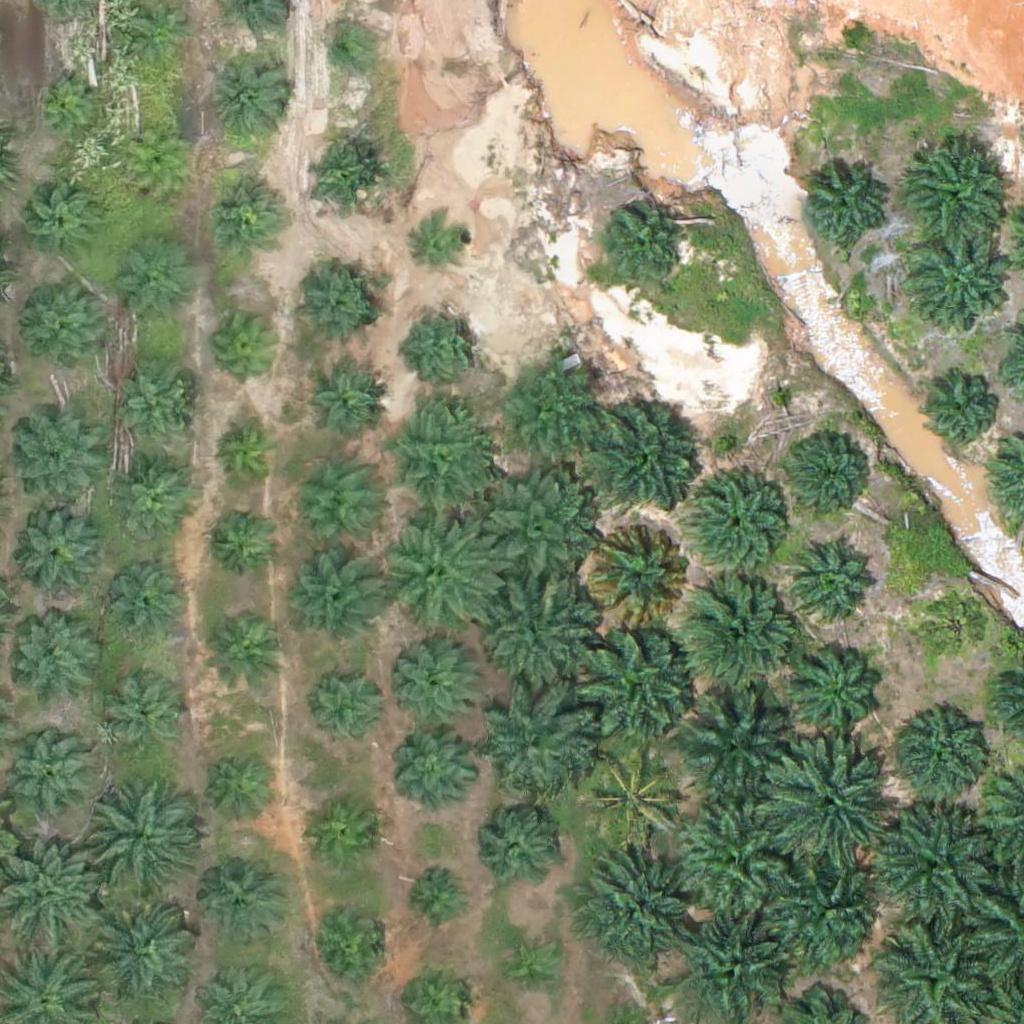Kelapa_Sawit: (377, 505, 502, 631), (81, 778, 206, 904), (580, 390, 705, 516), (574, 624, 699, 750), (477, 571, 602, 697), (474, 677, 599, 803), (676, 566, 801, 692), (672, 797, 797, 923), (579, 844, 704, 970), (760, 740, 885, 866), (769, 859, 894, 985), (865, 804, 990, 930), (469, 470, 594, 595), (675, 682, 800, 807), (575, 738, 688, 852), (582, 519, 695, 632), (494, 353, 606, 467), (683, 469, 795, 583), (384, 405, 496, 518), (391, 630, 491, 731), (909, 232, 1009, 333), (905, 139, 1005, 240), (784, 634, 884, 735), (887, 709, 987, 810), (86, 901, 186, 1001), (283, 461, 383, 561), (297, 266, 385, 354), (389, 724, 477, 812), (109, 459, 197, 547), (106, 676, 194, 764), (15, 416, 103, 504), (12, 505, 100, 593), (9, 733, 97, 821), (800, 164, 888, 252), (21, 285, 108, 374), (301, 363, 388, 451), (599, 205, 686, 293), (918, 364, 1005, 452), (292, 551, 379, 639), (108, 367, 195, 455), (100, 561, 187, 649), (6, 616, 93, 704), (195, 856, 282, 944), (469, 804, 556, 892), (792, 534, 879, 622), (787, 429, 874, 517), (305, 141, 380, 217), (208, 616, 283, 692), (203, 505, 278, 581), (209, 417, 284, 493), (407, 304, 482, 380), (308, 908, 383, 984), (214, 57, 289, 133), (918, 587, 993, 663), (22, 184, 97, 259), (119, 248, 194, 323), (206, 175, 281, 250), (212, 308, 287, 383), (205, 752, 280, 827), (305, 792, 380, 867), (314, 672, 389, 747), (499, 939, 562, 1002), (123, 132, 186, 195), (133, 6, 195, 69), (412, 213, 474, 276), (406, 862, 468, 925), (32, 72, 94, 134), (320, 28, 370, 78)
